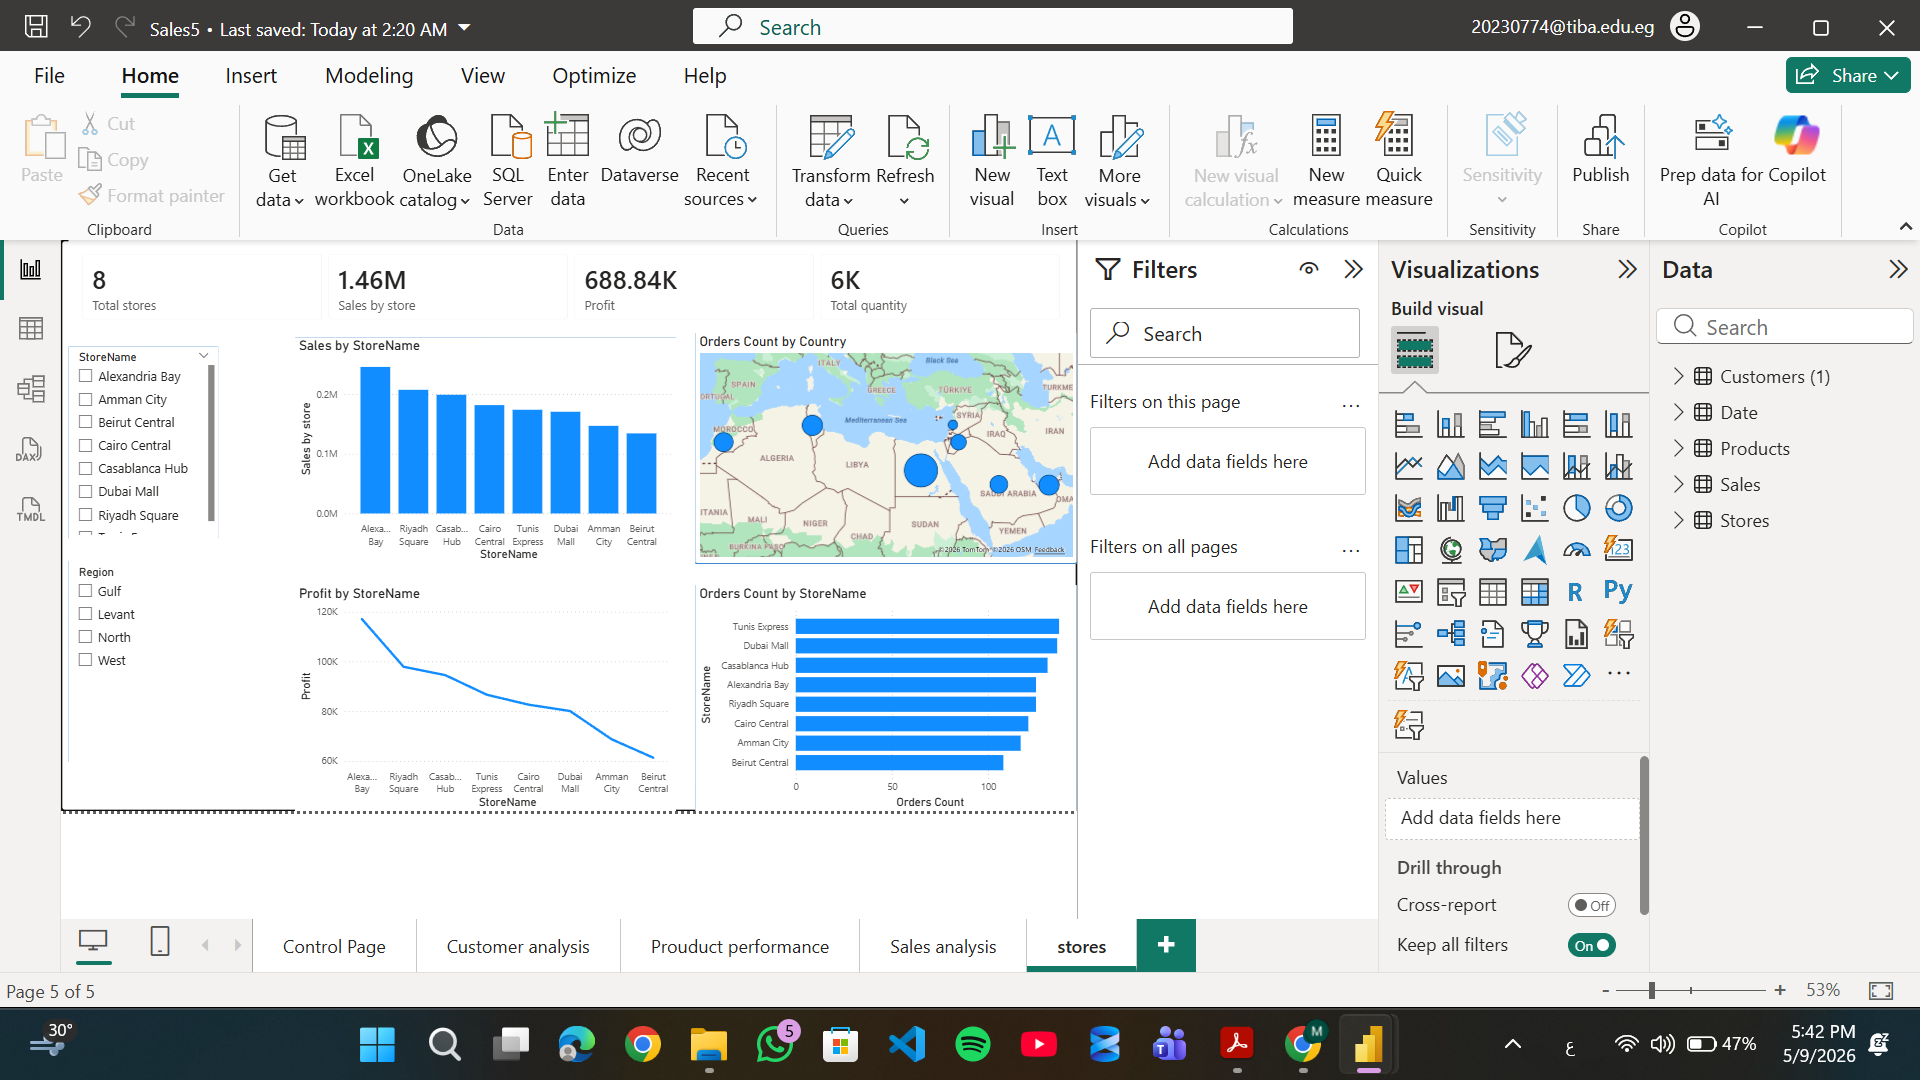

This screenshot's page, from the dashboard's own definition file:
{"tool":"powerbi","page":{"name":"stores","canvas":[1280,720],"ordinal":4},"visuals":[{"type":"cardVisual","fields":{"Data":["Customers (1).Total stores","Customers (1).Sales by store","Products.Profit","Customers (1).Total quantity"]},"box":[9.4,0,1269.9,117.2],"z":0},{"type":"shape","box":[799.4,117.2,480,291],"z":1000},{"type":"shape","box":[799.4,434.6,480,285.4],"z":2000},{"type":"shape","box":[294.8,434.6,480,285.4],"z":3000},{"type":"shape","box":[294.8,122.8,480,285.4],"z":4000},{"type":"columnChart","title":"Sales by  StoreName","fields":{"Category":["Stores.StoreName"],"Y":["Customers (1).Sales by store"]},"box":[294.8,122.8,480,285.4],"z":5000},{"type":"clusteredBarChart","fields":{"Category":["Stores.StoreName"],"Y":["Sales.Orders Count"]},"box":[799.4,434.6,480,285.4],"z":6000},{"type":"azureMap","fields":{"Category":["Stores.Country"],"Size":["Sales.Orders Count"]},"box":[799.4,117.2,480,287.2],"z":7000},{"type":"lineChart","fields":{"Y":["Products.Profit"],"Category":["Stores.StoreName"]},"box":[294.8,434.6,480,285.4],"z":8000},{"type":"shape","box":[9.4,134.2,189,241.9],"z":9000},{"type":"slicer","fields":{"Values":["Stores.StoreName"]},"box":[9.4,134.2,189,241.9],"z":10000},{"type":"shape","box":[9.4,404.4,189,253.2],"z":11000},{"type":"slicer","fields":{"Values":["Stores.Region"]},"box":[9.4,404.4,198.4,253.2],"z":12000}]}

Visuals, with their boxes on the page's 1280x720 design canvas (x1, y1, x2, y2). These are canvas units, not pixel positions in the 1920x1080 screenshot, which may show the page scaled, cropped or inside an application window:
cardVisual - Customers (1).Total stores x Customers (1).Sales by store: 9:0:1279:117
shape: 799:117:1279:408
shape: 799:435:1279:720
shape: 295:435:775:720
shape: 295:123:775:408
"Sales by  StoreName" columnChart: 295:123:775:408
clusteredBarChart - Stores.StoreName x Sales.Orders Count: 799:435:1279:720
azureMap - Stores.Country x Sales.Orders Count: 799:117:1279:404
lineChart - Products.Profit x Stores.StoreName: 295:435:775:720
shape: 9:134:198:376
slicer - Stores.StoreName: 9:134:198:376
shape: 9:404:198:658
slicer - Stores.Region: 9:404:208:658
